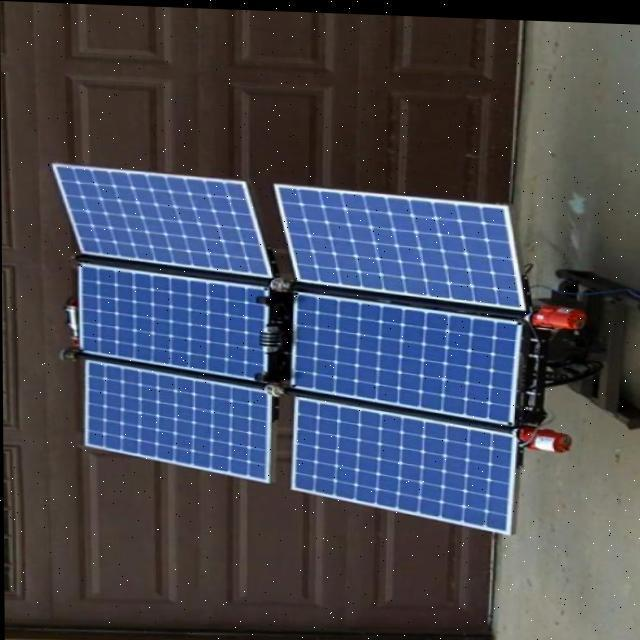Normal Solar Panel: (275, 182, 526, 304), (293, 292, 522, 421), (294, 398, 518, 529), (52, 164, 272, 274), (85, 360, 270, 480), (79, 264, 266, 377)
